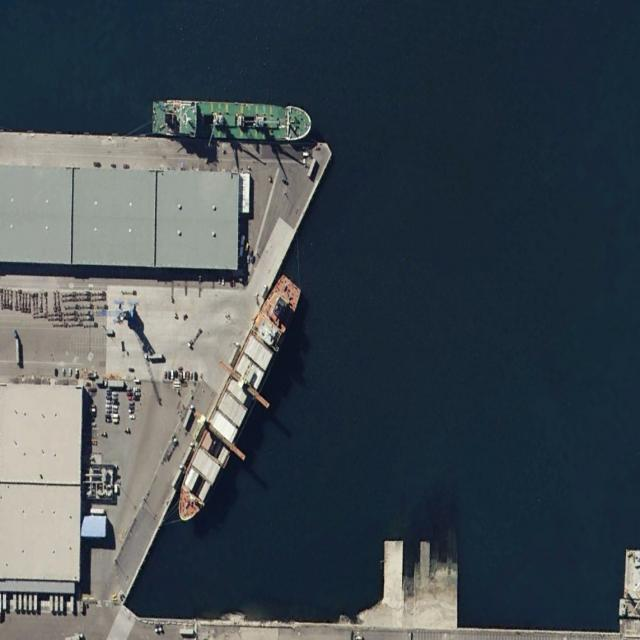Cargo: (151, 100, 312, 140)
Container Ship: (170, 269, 304, 534)
